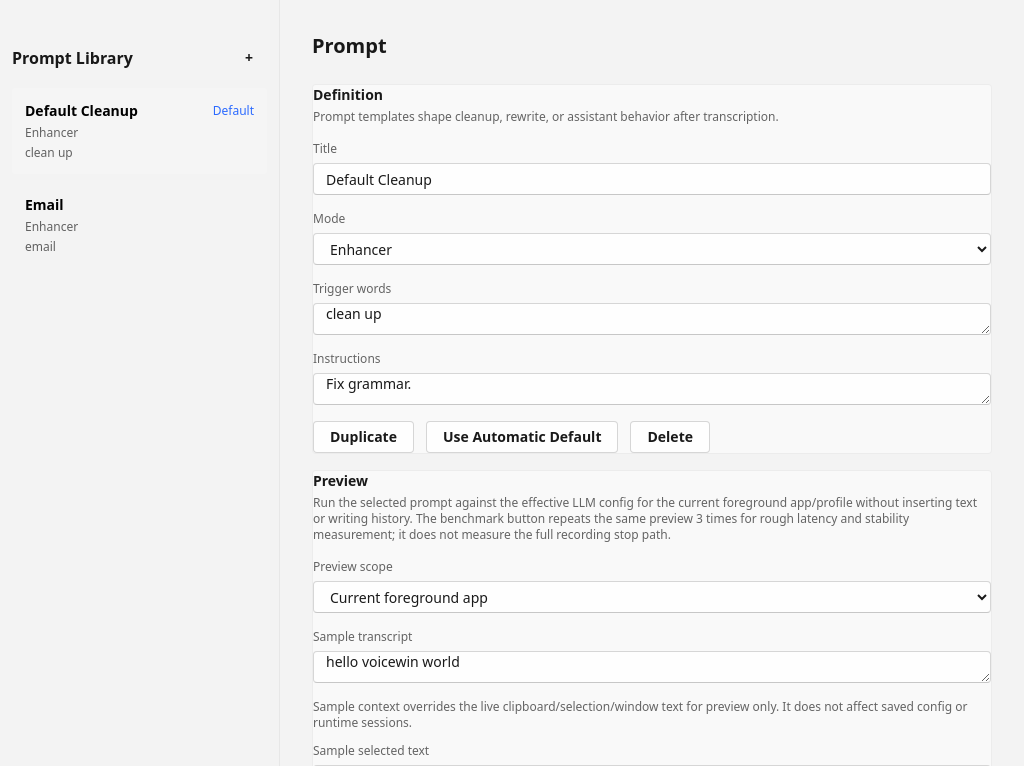
Scenario: PromptsPage › passes explicit profile preview scope through to the backend
Expected: the text "Default Cleanup" is shown, [25, 101, 138, 121]
Select "Profile: Mail" in the dropdown labelled "Preview scope": (652, 597) [313, 581, 991, 613]
(page scrolled)
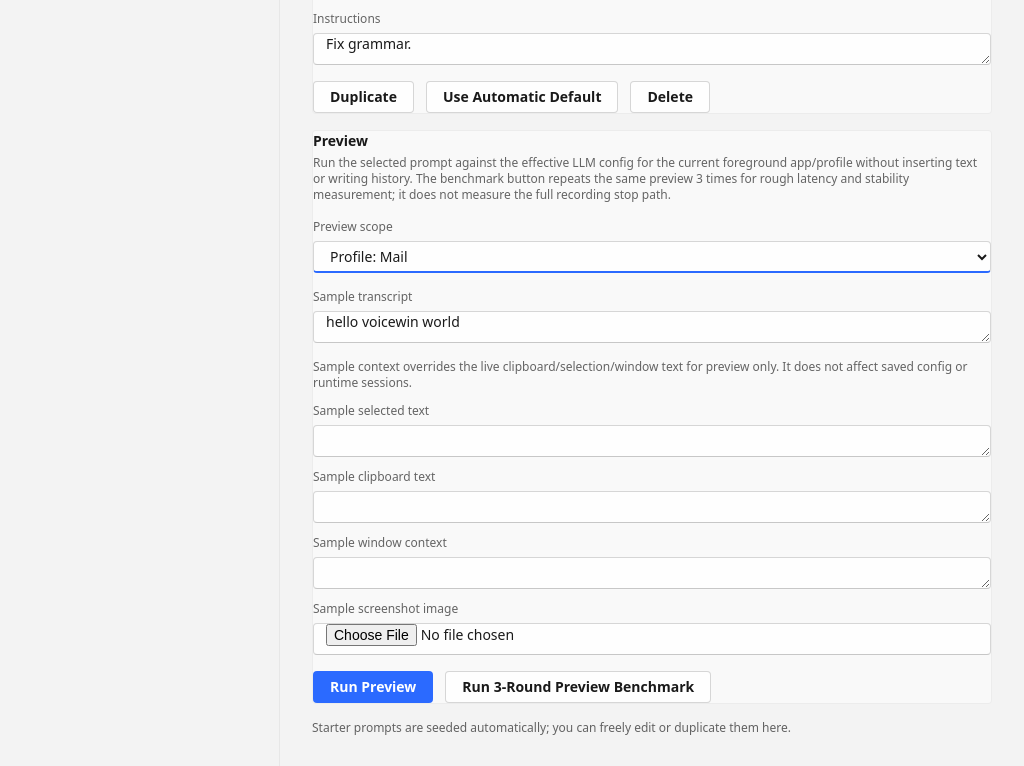
Click the button "Run Preview": (373, 687) [313, 671, 433, 703]
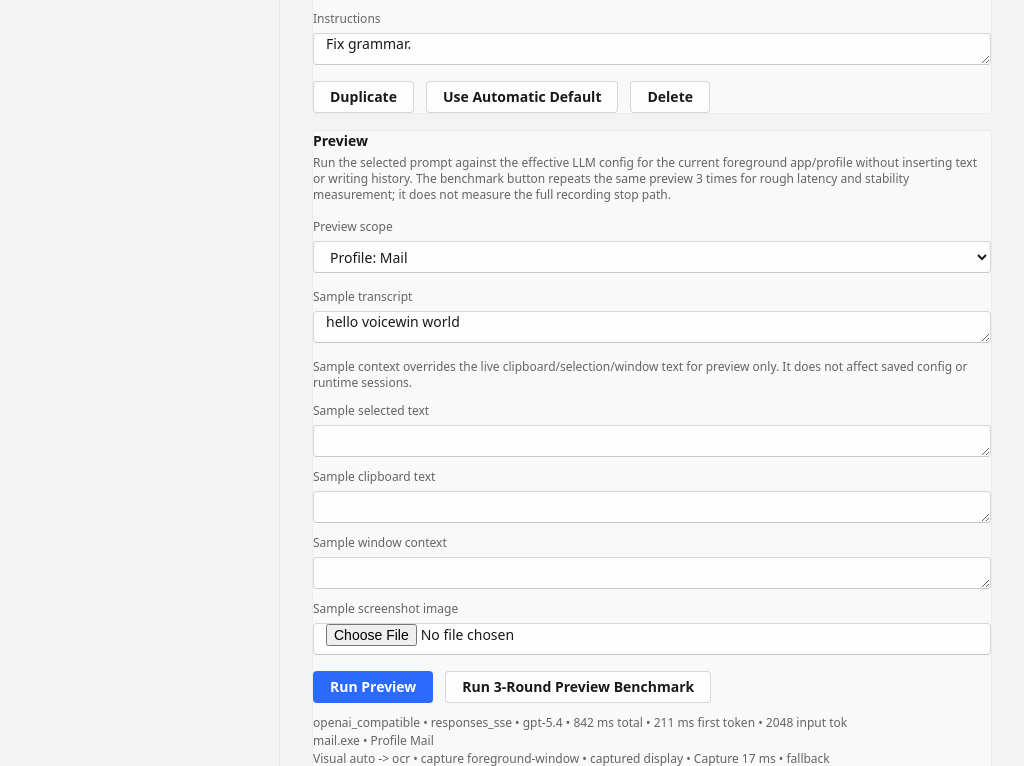
Expected: the text "mail.exe • Profile Mail" is shown, [313, 732, 434, 749]
Select "Global defaults" in the dropdown labelled "Preview scope": (652, 257) [313, 241, 991, 273]
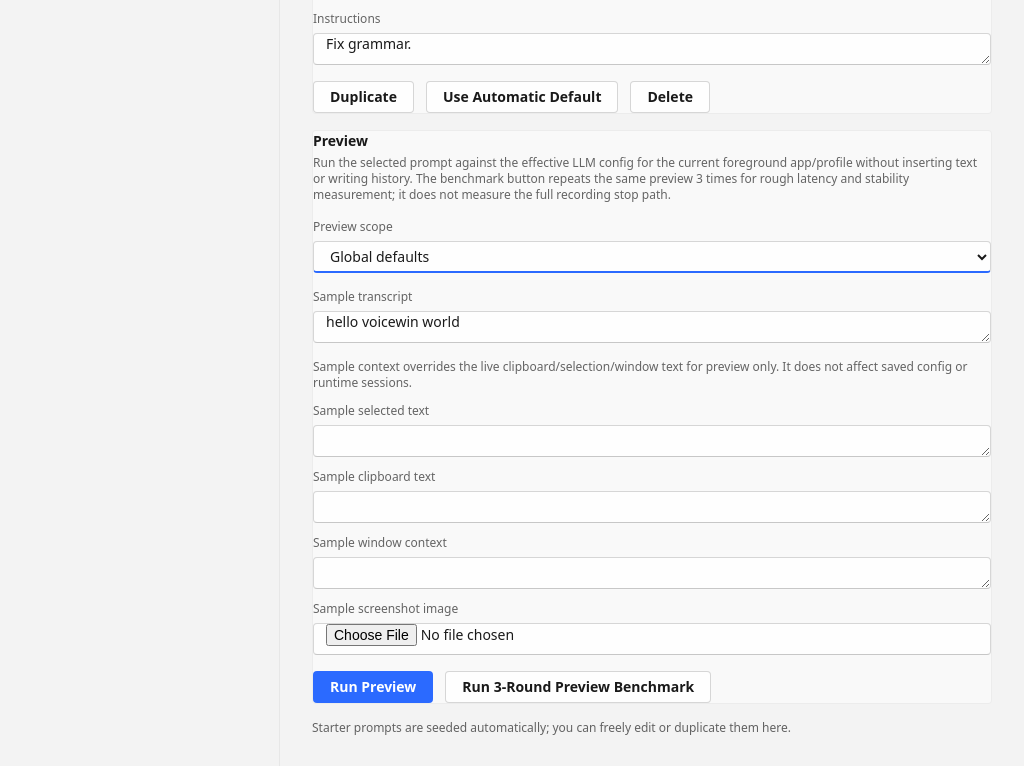
Expected: the text "mail.exe • Profile Mail" is gone
